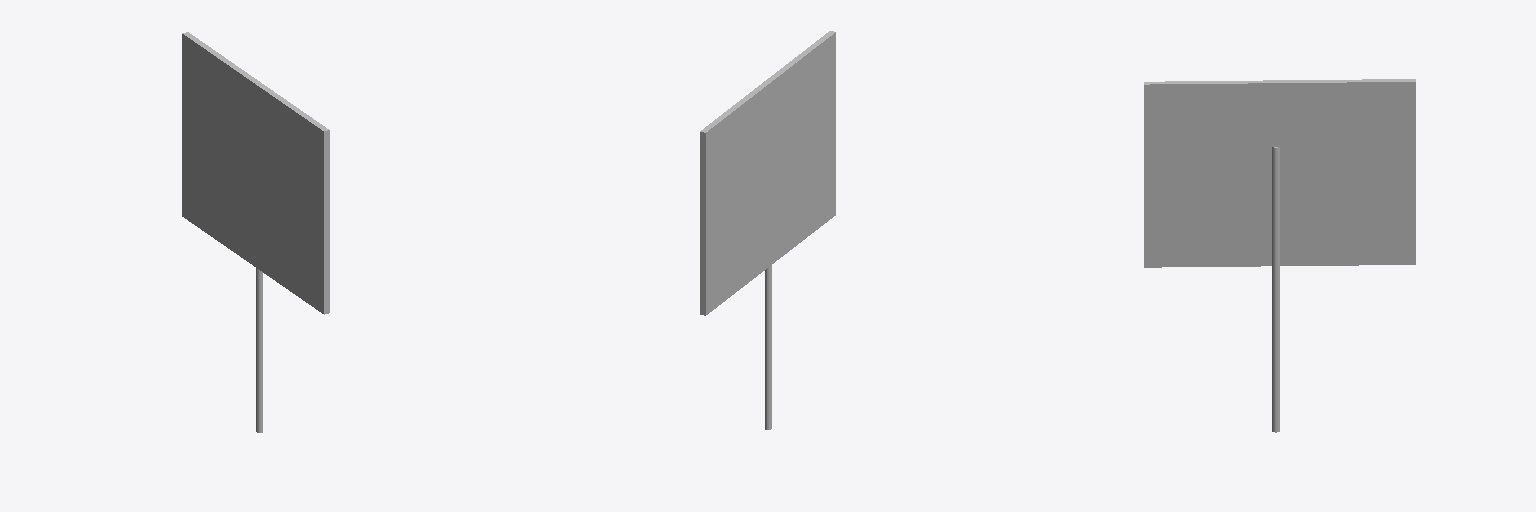
The model's file is board_2.obj.
3 renders of one model, left to right at view 1: azimuth 30°, elevation 25°; view 2: azimuth 150°, elevation 25°; view 3: azimuth 270°, elevation 25°, orthographic.
Parts seen in each view (by area): view 1: Cube.001_Cube.002, Cylinder.001; view 2: Cube.001_Cube.002, Cylinder.001; view 3: Cube.001_Cube.002, Cylinder.001.
Boxes of the visible parts, x1=… form: Cube.001_Cube.002: x1=182, y1=32, x2=329, y2=314; Cylinder.001: x1=256, y1=268, x2=262, y2=432; Cube.001_Cube.002: x1=700, y1=31, x2=835, y2=315; Cylinder.001: x1=765, y1=265, x2=771, y2=429; Cube.001_Cube.002: x1=1144, y1=79, x2=1415, y2=267; Cylinder.001: x1=1272, y1=147, x2=1279, y2=432.
Size of the model in its own units: 0.0249 by 0.7229 by 0.5115.